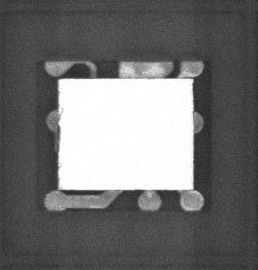DIE_BROKEN: (56, 105, 63, 169)
